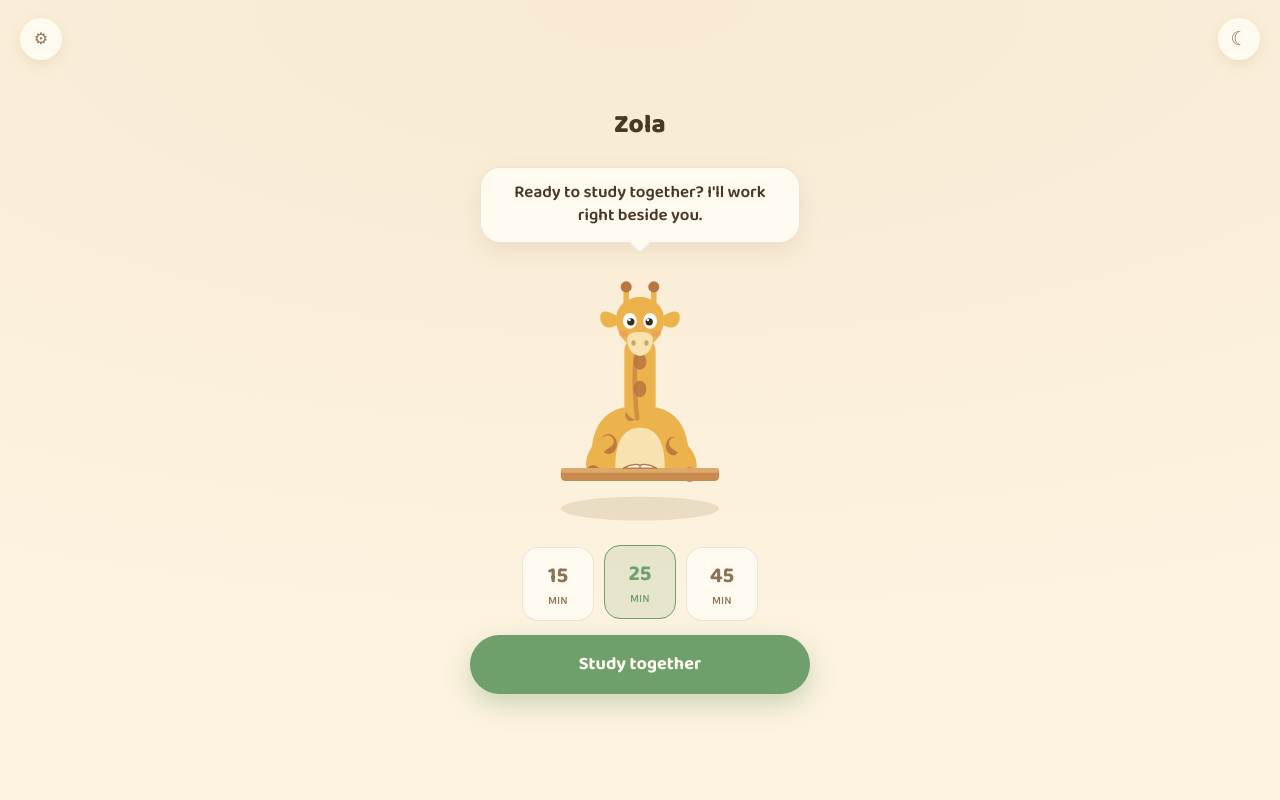
the study-together loop › pauses and resumes
Click the button "Study together". click: (640, 664)
box: [470,635,810,694]
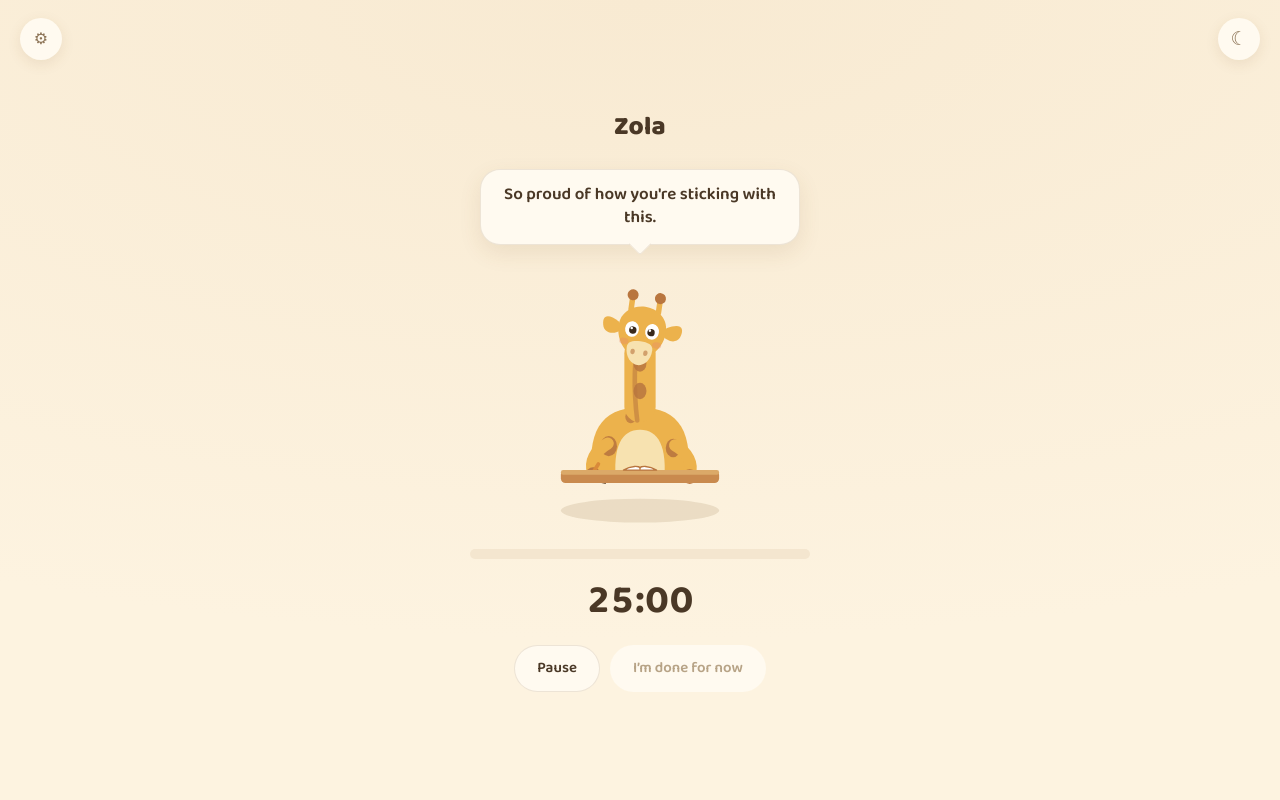
Click the button "Pause". click: (557, 668)
box: [514,645,600,692]
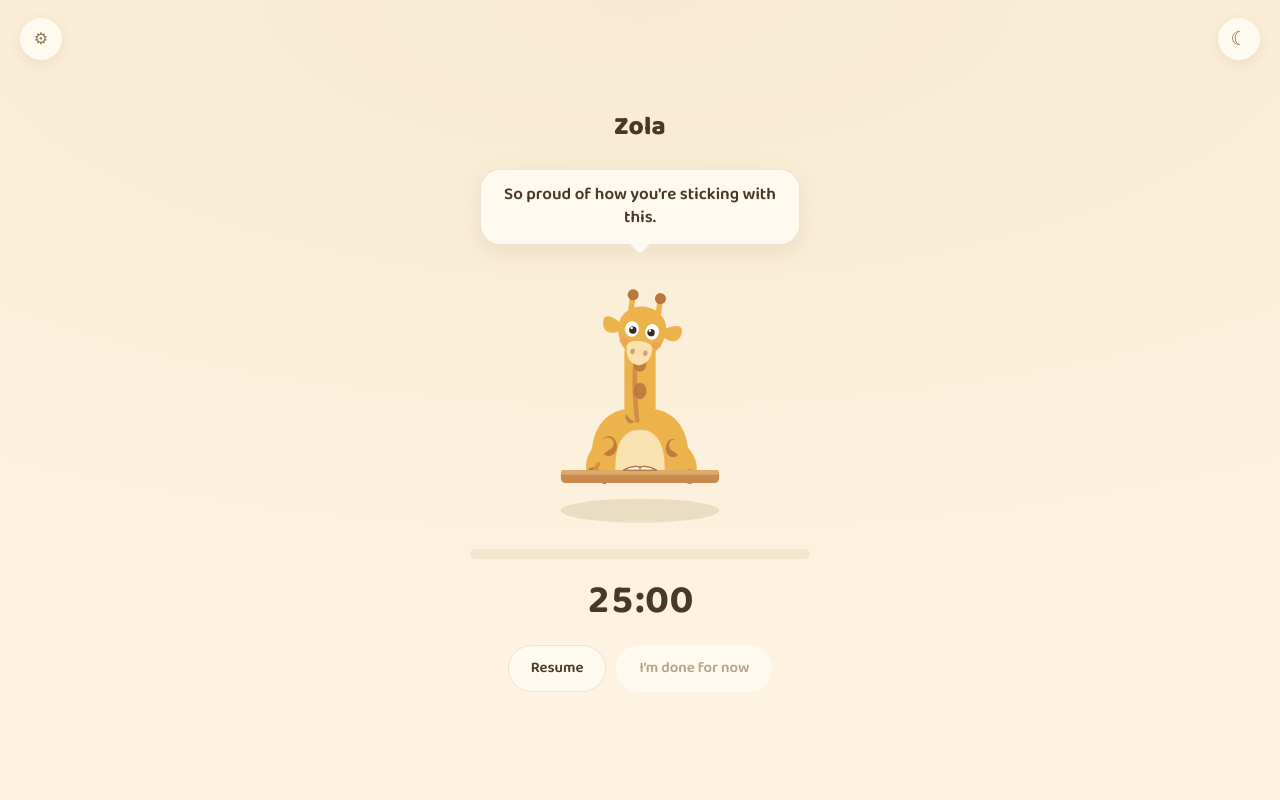
Expected: the button "Resume" is shown
Click the button "Resume". click: (557, 668)
box: [508,645,606,692]
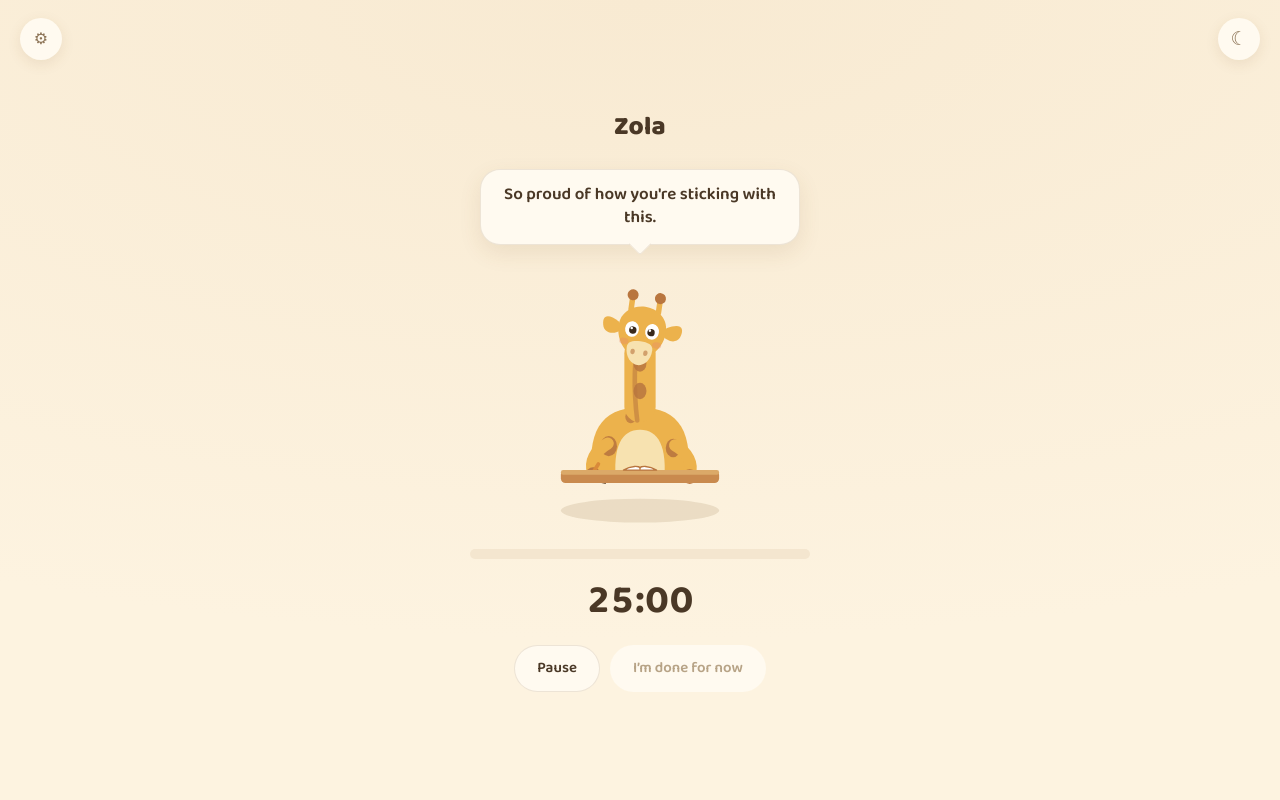
Expected: the button "Pause" is shown, [514,645,600,692]
